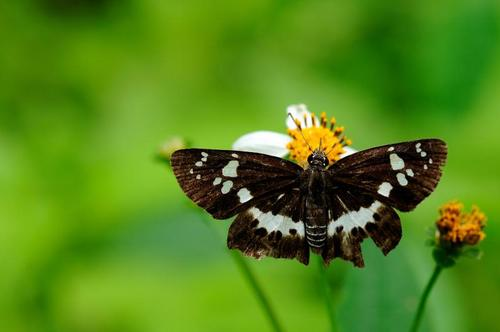Hesperiidae: (167, 117, 453, 269)
